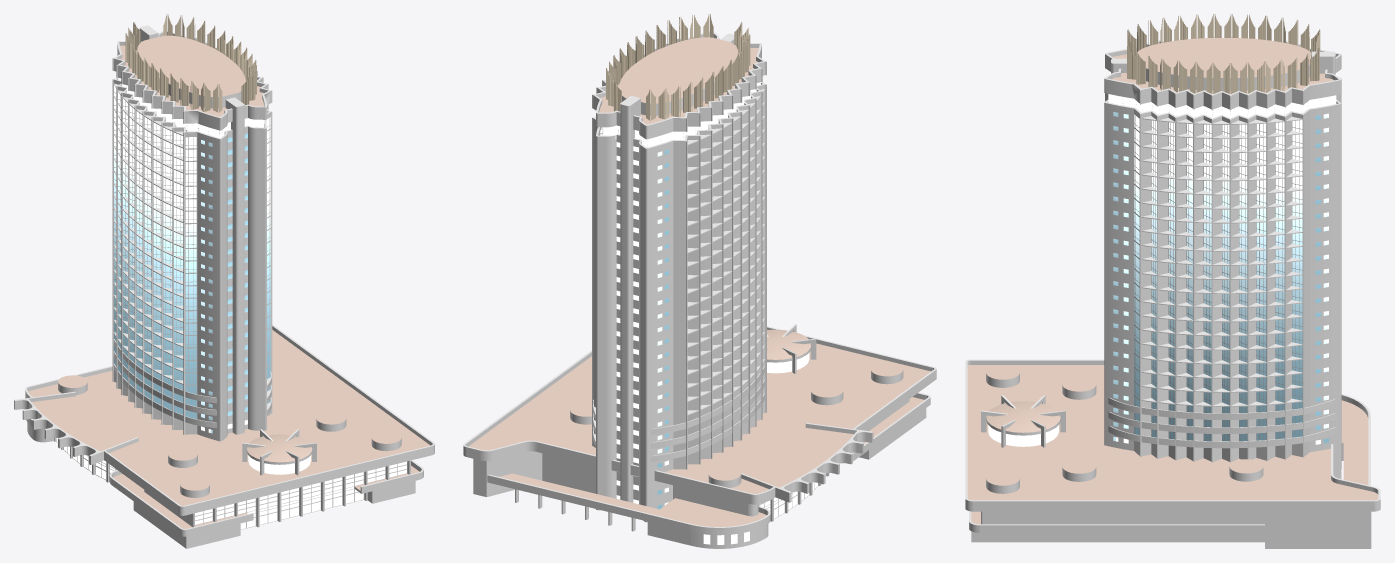
The model's file is gost-kazakh4.glb.
The picture shows the model from 3 angles, left to right: view 1: azimuth 30°, elevation 25°; view 2: azimuth 150°, elevation 25°; view 3: azimuth 270°, elevation 25°; orthographic projection. The views are drawn at different scales.
Visible parts, largest first — view 1: 1172723, 1182863, 667172, Компонент#7, Компонент#1.009, Компонент#7.001, Компонент#1.008, Компонент#1.007, 1005980, Компонент#1.006, Компонент#1.005, Компонент#1.004 (+42 smaller); view 2: 1172723, 1182863, 667172, Компонент#7, Компонент#7.001, Компонент#2.014, Компонент#2.016, Компонент#2.012, Компонент#2.018, Компонент#2.015, Компонент#2.017, Компонент#2.019 (+26 smaller); view 3: 1172723, 1182863, Компонент#7.001, Компонент#7, Компонент#5.006, Компонент#1.011, Компонент#1.018, Компонент#1.015, 1005980, Компонент#1.010, Компонент#1.017, Компонент#2.043 (+59 smaller).
Part boxes in pixels (x1,y1,x2,y2): 1172723: (14, 324, 434, 515); 1182863: (26, 419, 423, 548); 667172: (139, 25, 244, 434); Компонент#7: (112, 38, 232, 130); Компонент#1.009: (185, 136, 197, 419); Компонент#7.001: (154, 31, 272, 119); Компонент#1.008: (173, 132, 183, 417); Компонент#1.007: (163, 127, 172, 410); 1005980: (246, 434, 312, 474); Компонент#1.006: (153, 122, 161, 405); Компонент#1.005: (144, 116, 151, 399); Компонент#1.004: (136, 111, 142, 393); 1172723: (463, 326, 936, 504); 1182863: (473, 392, 930, 548); 667172: (620, 33, 734, 502); Компонент#7: (633, 40, 766, 139); Компонент#7.001: (592, 31, 720, 127); Компонент#2.014: (633, 277, 766, 355); Компонент#2.016: (633, 304, 766, 382); Компонент#2.012: (633, 250, 766, 328); Компонент#2.018: (633, 331, 766, 409); Компонент#2.015: (633, 291, 766, 368); Компонент#2.017: (633, 318, 766, 395); Компонент#2.019: (633, 345, 766, 422); 1172723: (965, 359, 1380, 511); 1182863: (969, 394, 1371, 548); Компонент#7.001: (1104, 57, 1341, 110); Компонент#7: (1105, 36, 1341, 72); Компонент#5.006: (1104, 431, 1341, 462); Компонент#1.011: (1292, 120, 1302, 437); Компонент#1.018: (1256, 123, 1266, 440); Компонент#1.015: (1275, 122, 1284, 439); 1005980: (986, 401, 1060, 446); Компонент#1.010: (1239, 124, 1247, 441); Компонент#1.017: (1203, 124, 1211, 441); Компонент#2.043: (1104, 149, 1341, 180).
Bounding box in the file's own units: 77.36 × 103 × 88.2.
